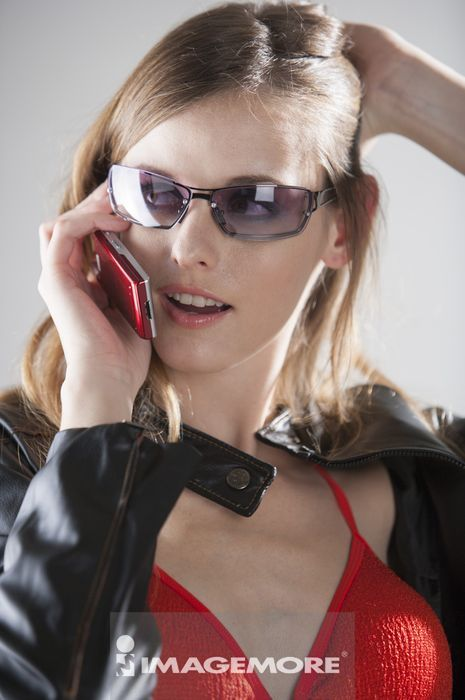talk: (30, 142, 326, 416)
